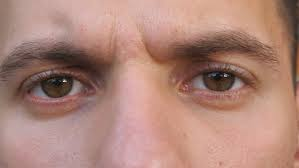e.brown: (41, 74, 72, 97)
